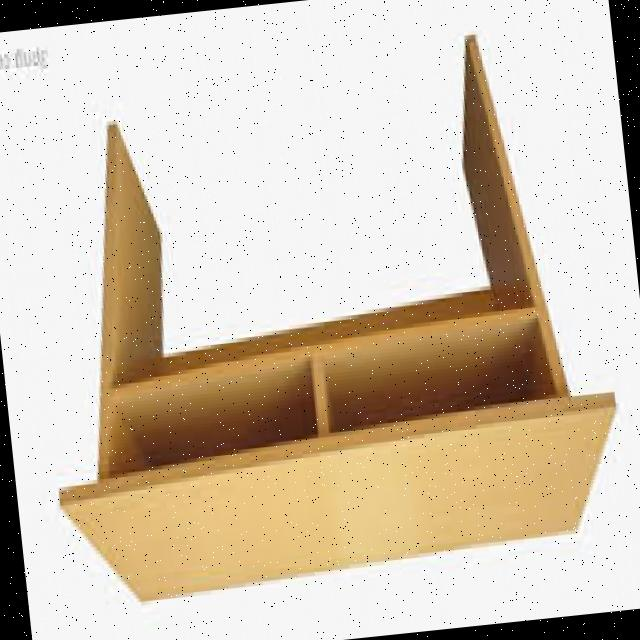Table: (8, 11, 634, 621)
